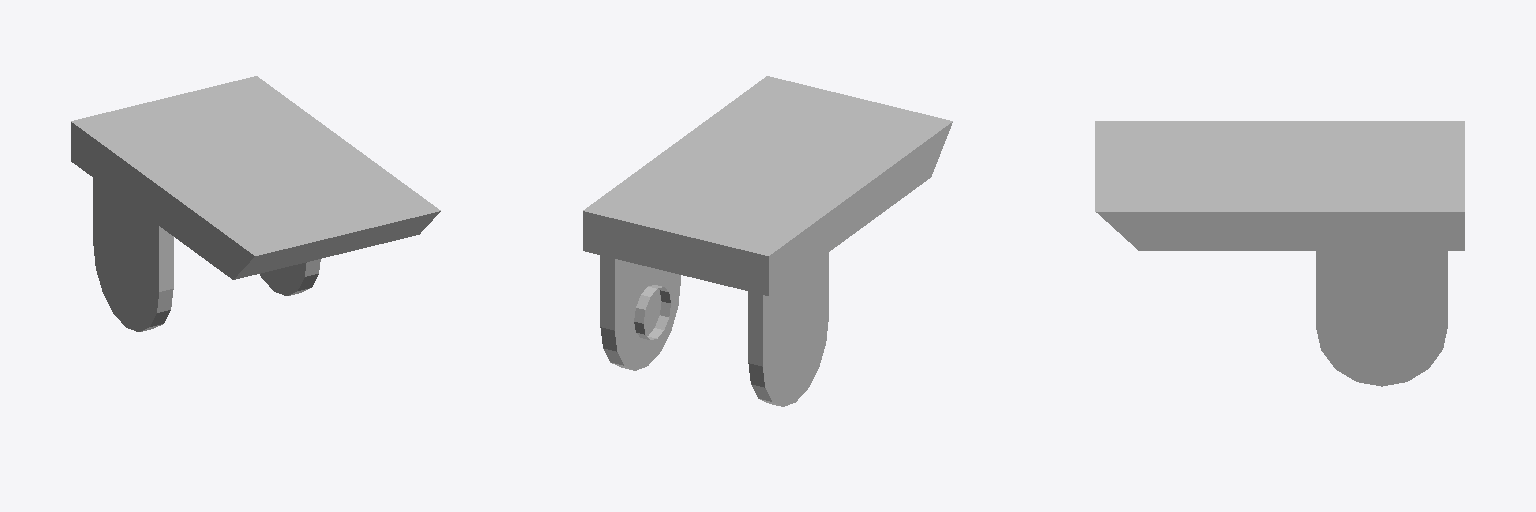
The model's file is leftFoot.obj.
3 views of the same model, side by side, from view 1: azimuth 30°, elevation 25°; view 2: azimuth 150°, elevation 25°; view 3: azimuth 270°, elevation 25° (orthographic).
Bounding box in the file's own units: 9.75 × 9 × 16.75.